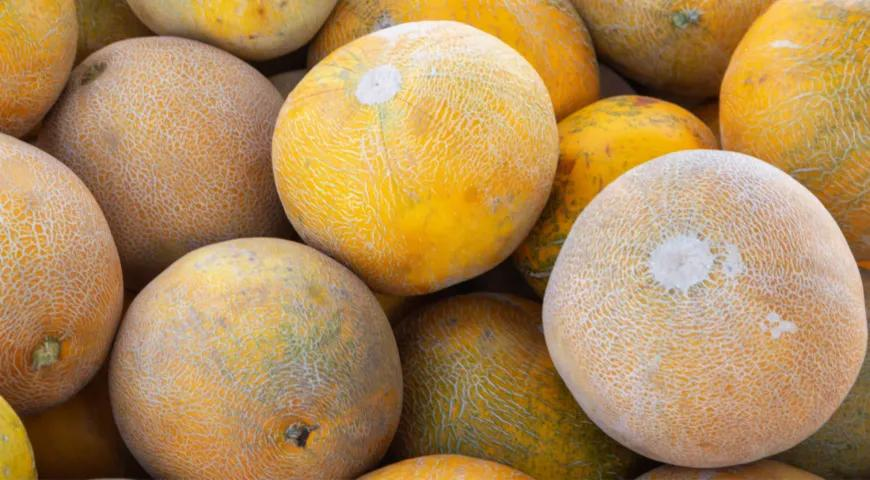melon: (540, 147, 867, 469), (99, 198, 413, 480), (251, 10, 542, 286), (33, 14, 274, 236), (0, 131, 129, 424)
